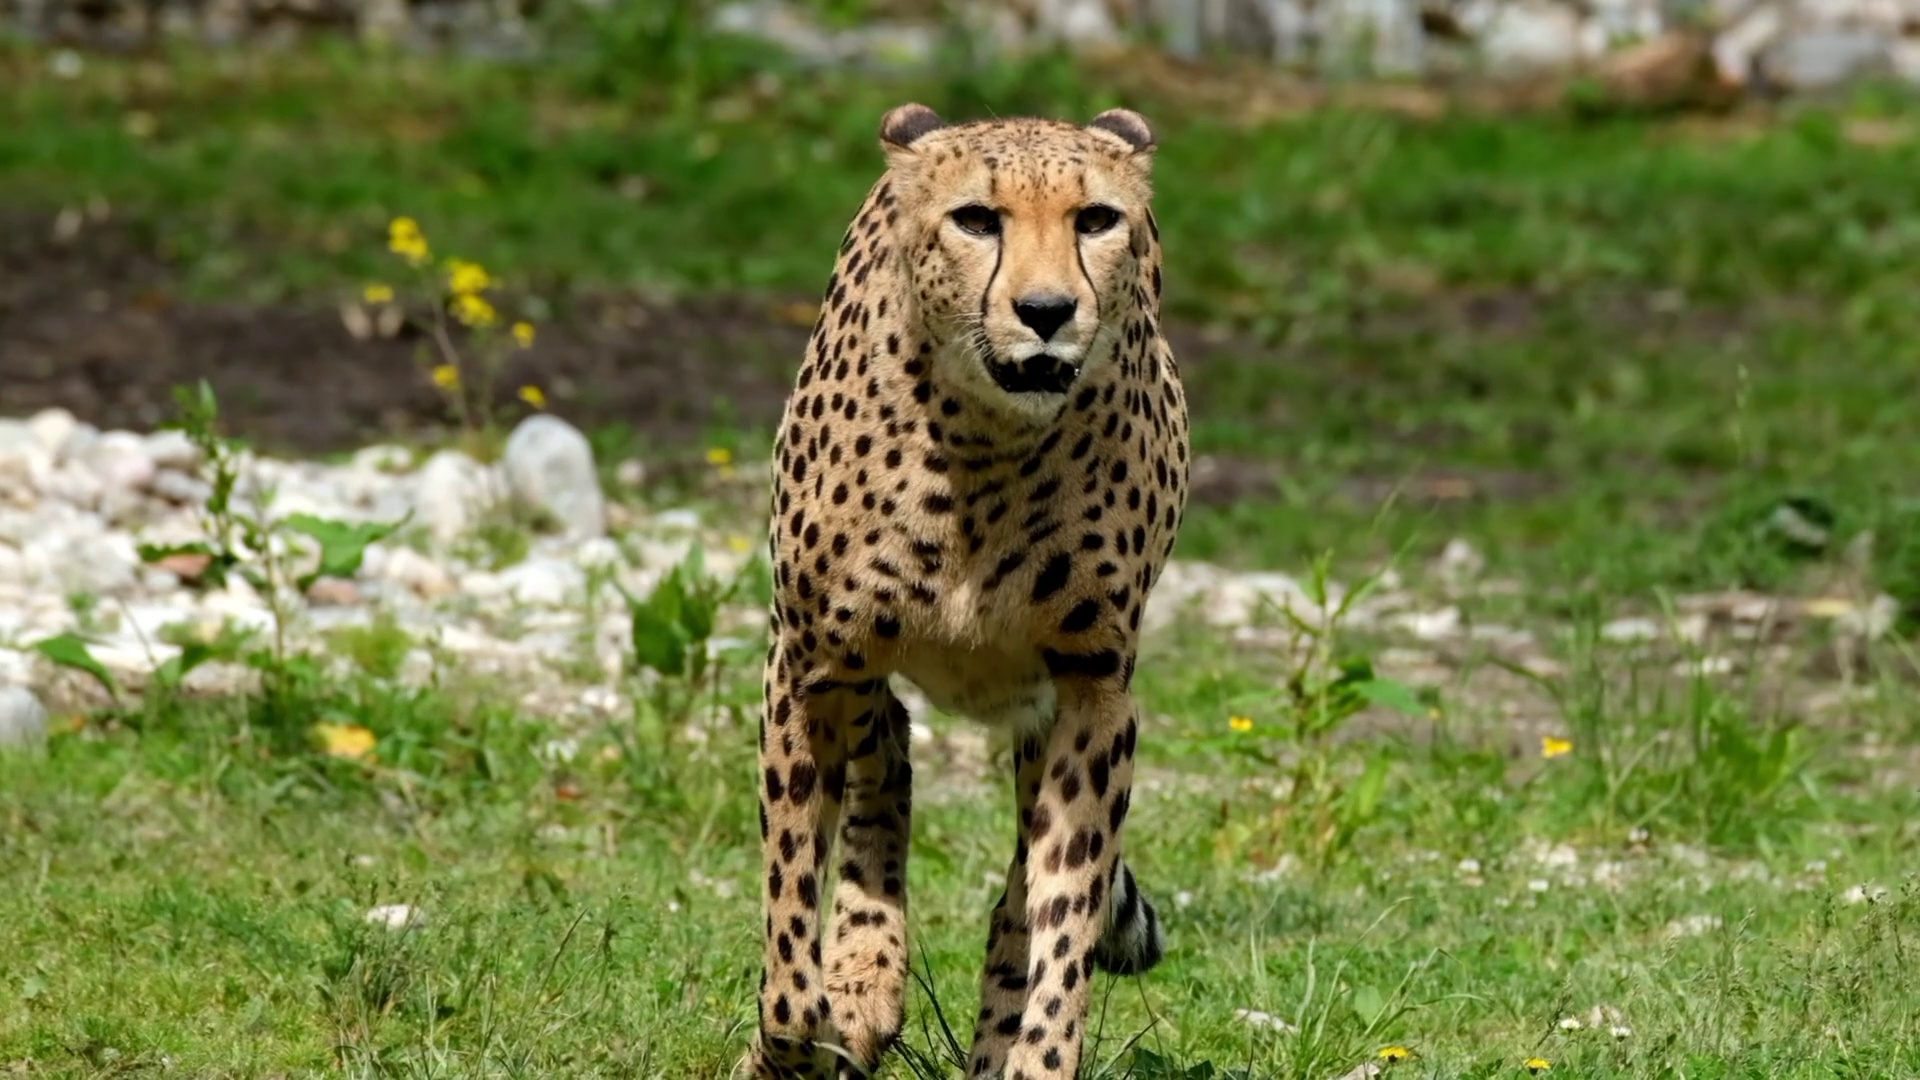Cheetah: (742, 102, 1193, 1080)
